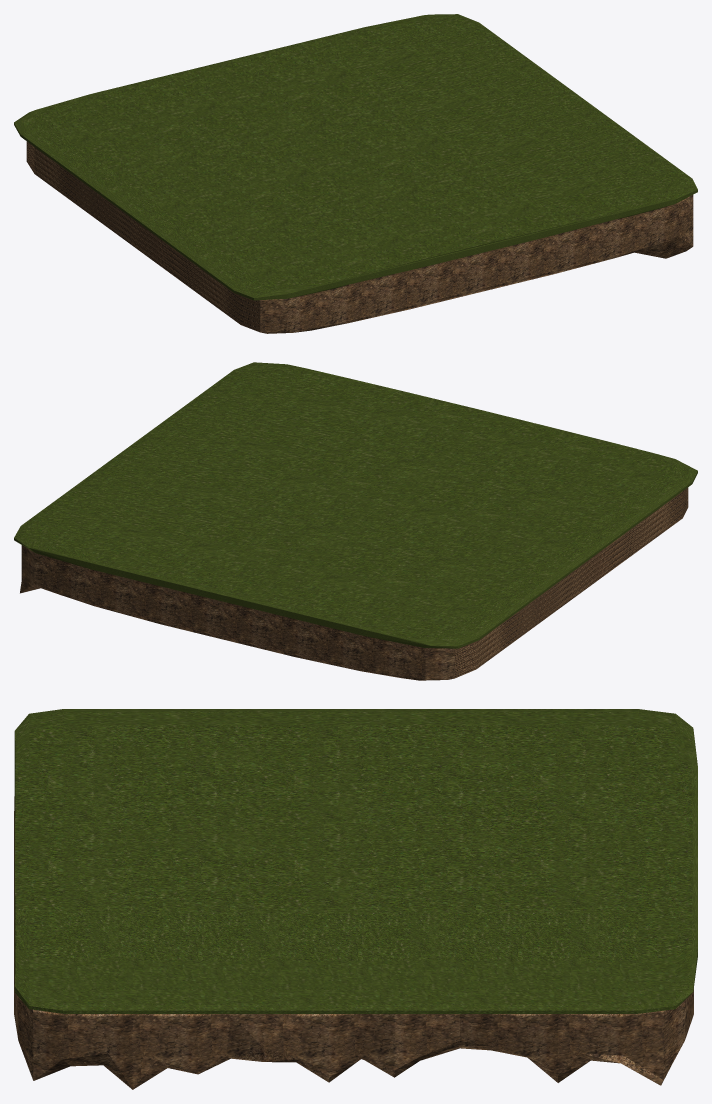
The model's file is ground_block16.dae.
3 views of the same model, one above another, from view 1: azimuth 30°, elevation 25°; view 2: azimuth 150°, elevation 25°; view 3: azimuth 270°, elevation 25° (orthographic). The views are drawn at different scales.
Visible parts, largest first — view 1: Grass, Dirt; view 2: Grass, Dirt; view 3: Grass, Dirt.
Boxes of the visible parts, x1,y1,x2,y2 form: Grass: (14, 14, 697, 300); Dirt: (26, 141, 693, 333); Grass: (14, 362, 697, 648); Dirt: (20, 487, 688, 680); Grass: (14, 709, 697, 1013); Dirt: (14, 796, 693, 1089).
Bounding box in the file's own units: 16.49 × 15.73 × 2.37.
2 materials, 2 textured.
